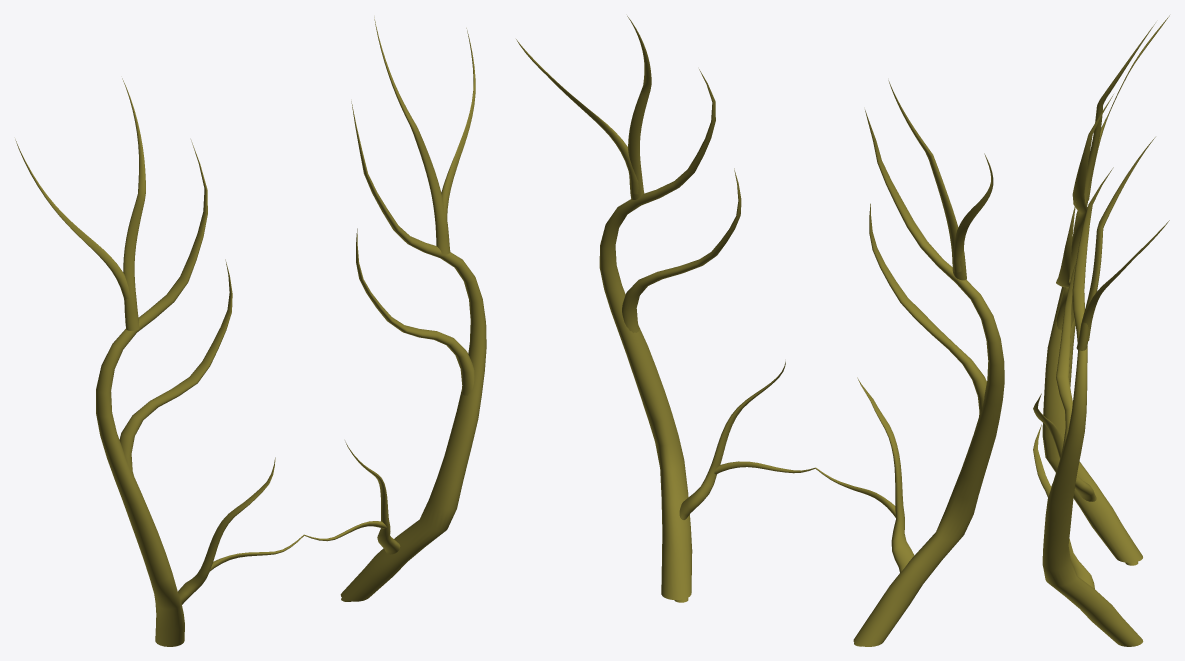
File: Nervio_Supratroclear.obj
3 renders of one model, left to right at view 1: azimuth 30°, elevation 25°; view 2: azimuth 150°, elevation 25°; view 3: azimuth 270°, elevation 25°, orthographic. The views are drawn at different scales.
Visible parts, largest first — view 1: Nervio_Supratoclear; view 2: Nervio_Supratoclear; view 3: Nervio_Supratoclear.
Part boxes in pixels (x1,y1,x2,y2): Nervio_Supratoclear: [15, 17, 486, 646]; Nervio_Supratoclear: [516, 16, 1004, 646]; Nervio_Supratoclear: [1033, 15, 1169, 646].
Size of the model in its own units: 0.2599 by 0.3107 by 0.074.
